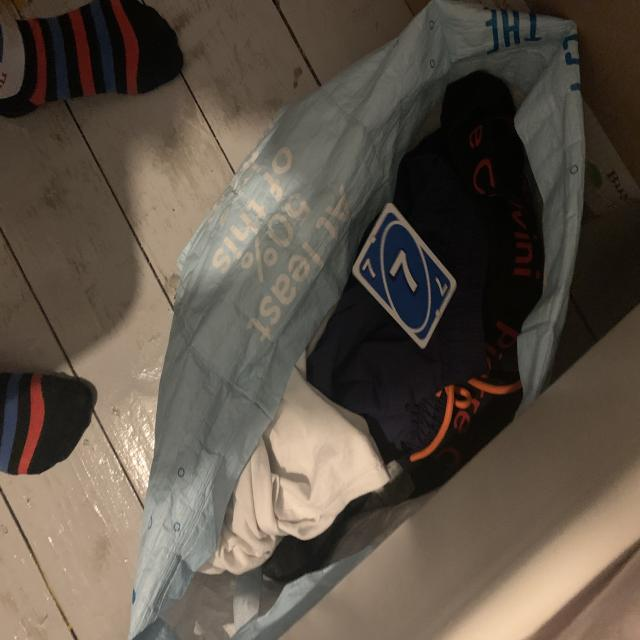lblue-7: (361, 256, 378, 283)
